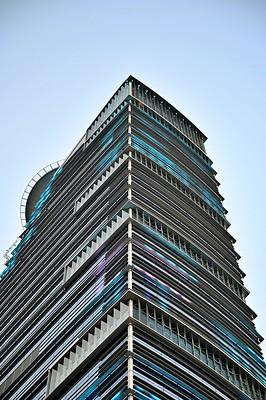building: (5, 71, 263, 400)
